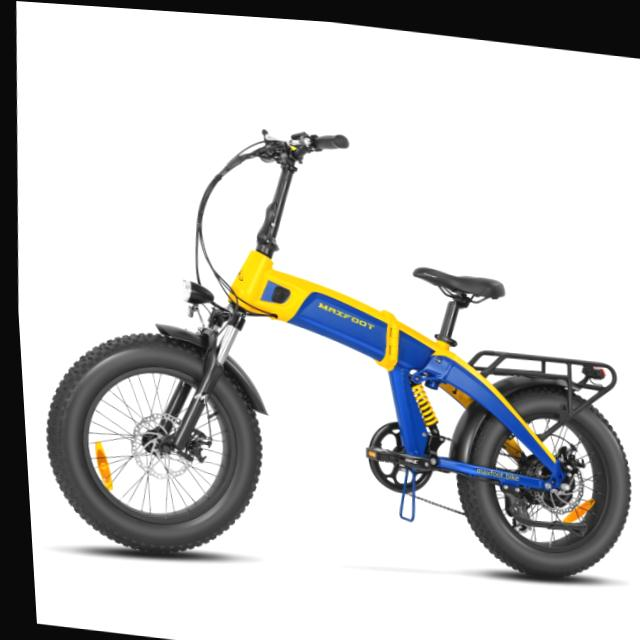folding-bike: (18, 91, 640, 610)
